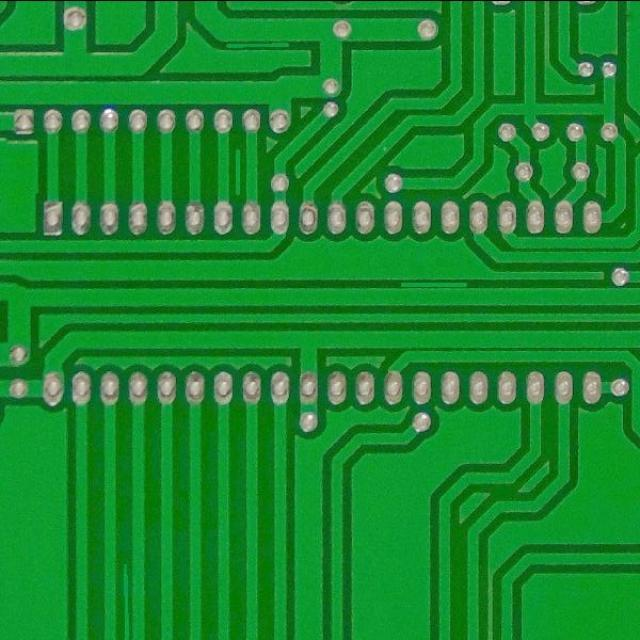Spurious_Cooper: (118, 560, 134, 638), (398, 277, 470, 290), (232, 144, 246, 199), (224, 40, 293, 51), (120, 558, 132, 601)
